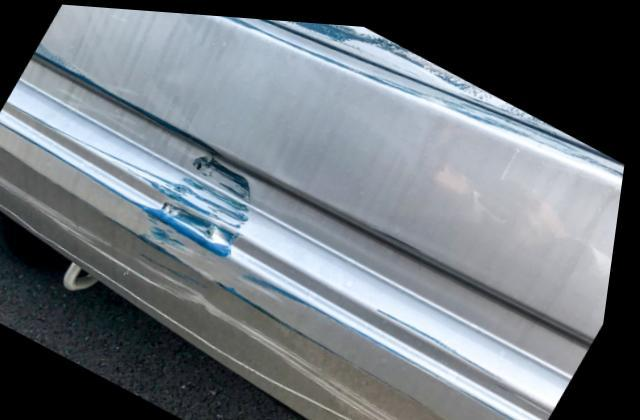scratch: (0, 33, 482, 420), (207, 12, 627, 170), (264, 15, 628, 157)
